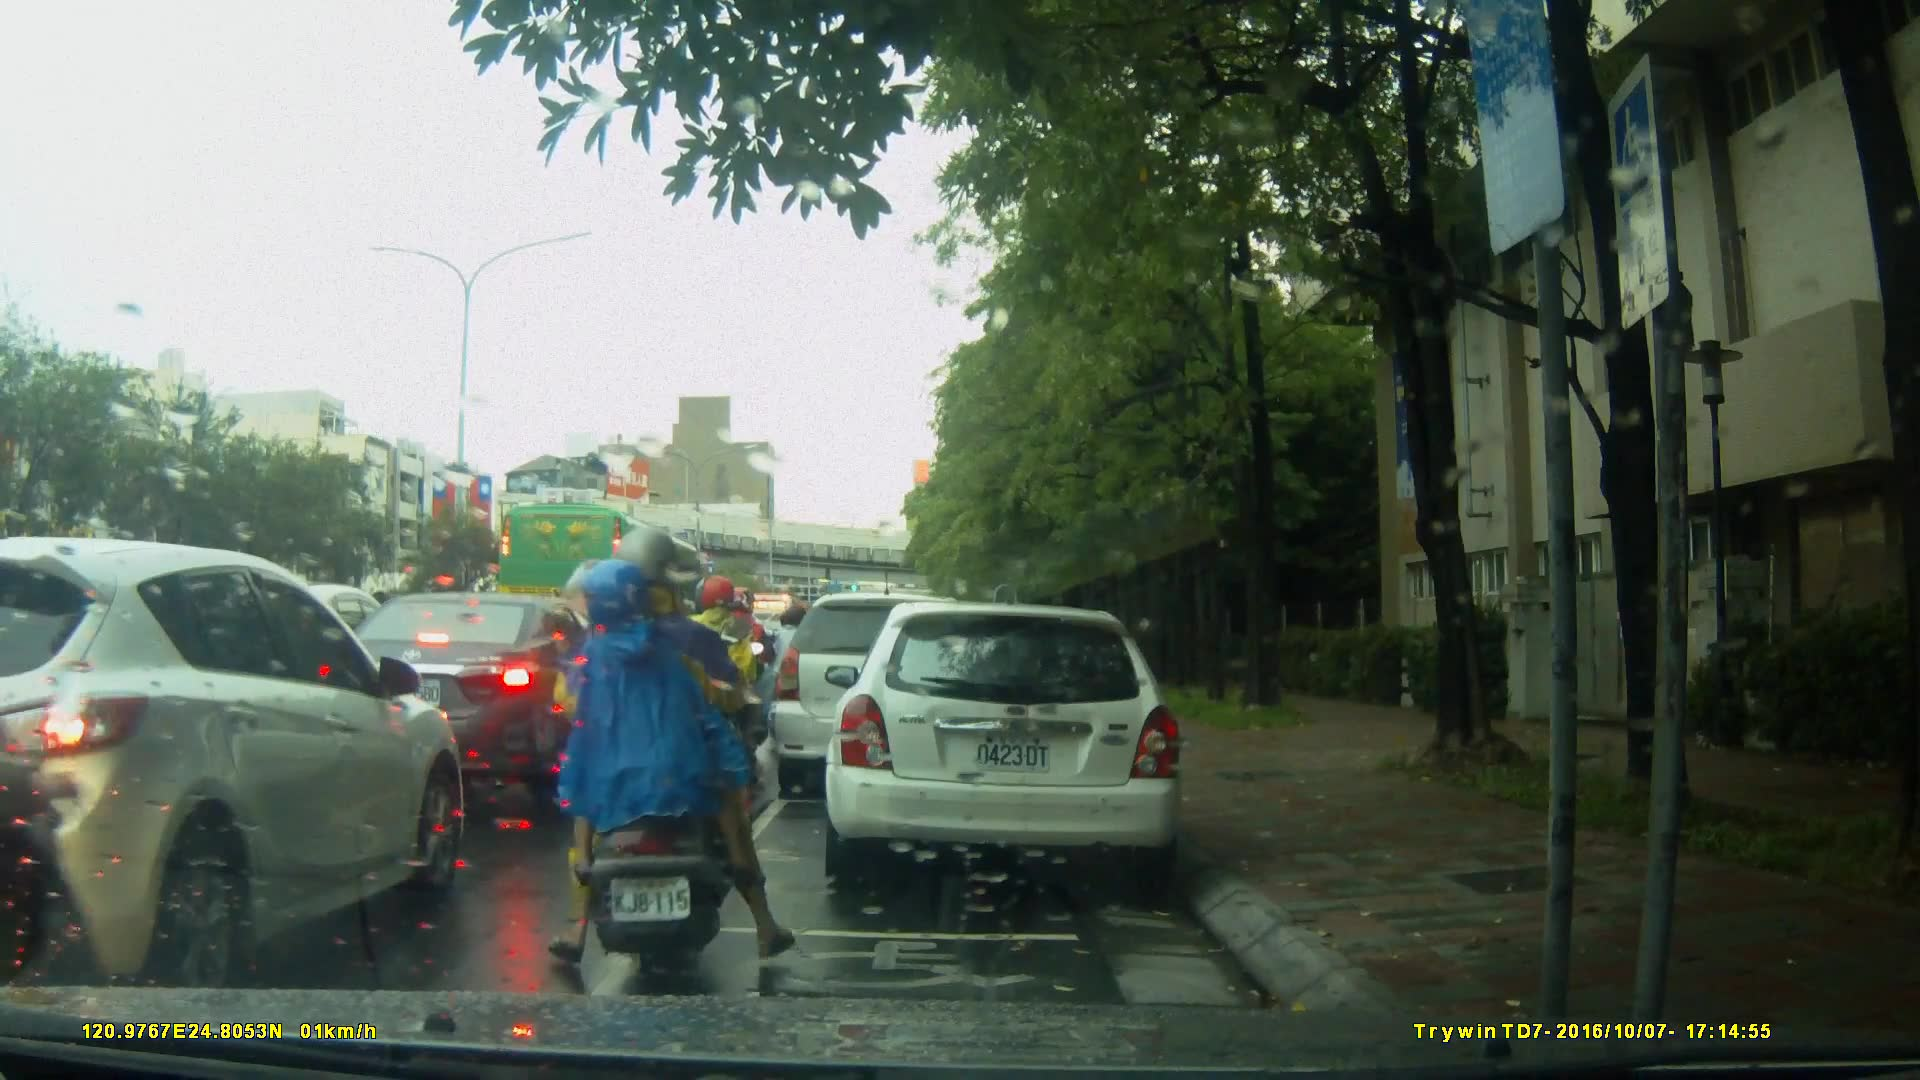rider: (521, 521, 807, 984), (681, 573, 766, 806), (718, 592, 776, 749), (773, 598, 819, 725)
vehicle: (5, 535, 470, 988), (831, 592, 1196, 897), (315, 589, 629, 776), (770, 590, 999, 804), (498, 503, 713, 636)
